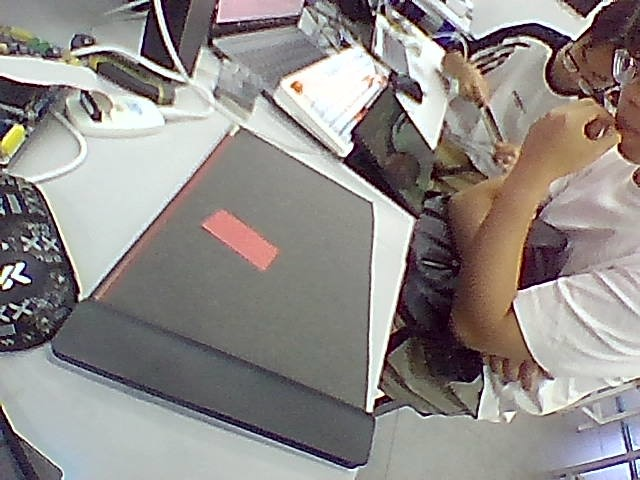card: (202, 210, 278, 271)
